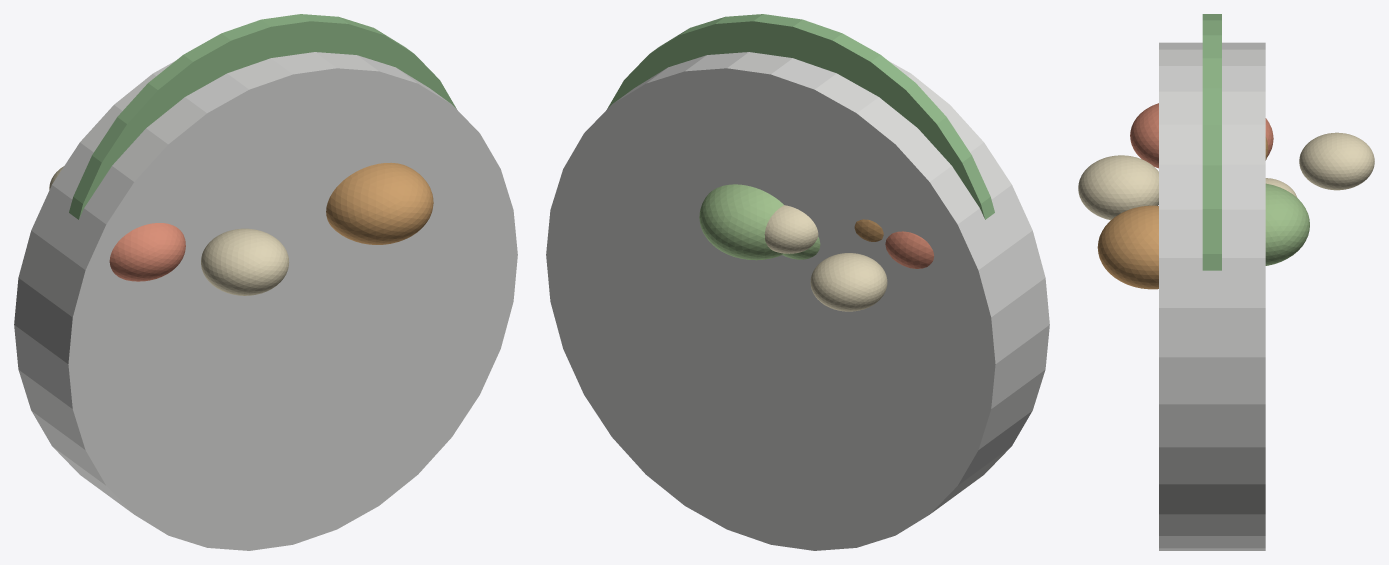
File: salad.glb
The picture shows the model from 3 angles, left to right: view 1: azimuth 30°, elevation 25°; view 2: azimuth 150°, elevation 25°; view 3: azimuth 270°, elevation 25°; orthographic projection.
Visible parts, largest first — view 1: geometry_0, geometry_1, geometry_10, geometry_11, geometry_5; view 2: geometry_0, geometry_1, geometry_8, geometry_3, geometry_7, geometry_9; view 3: geometry_0, geometry_1, geometry_10, geometry_11, geometry_3, geometry_8, geometry_5.
Boxes of the visible parts, x1,y1,x2,y2 form: geometry_0: (14,52,517,550); geometry_1: (69,14,456,219); geometry_10: (326,162,433,244); geometry_11: (201,228,289,295); geometry_5: (109,223,185,281); geometry_0: (546,52,1049,550); geometry_1: (607,14,994,219); geometry_8: (699,184,783,260); geometry_3: (810,253,887,311); geometry_7: (764,205,818,253); geometry_9: (885,231,934,268); geometry_0: (1159,42,1265,550); geometry_1: (1202,14,1221,270); geometry_10: (1097,205,1158,289); geometry_11: (1078,155,1158,220); geometry_3: (1299,132,1374,190); geometry_8: (1265,183,1309,265); geometry_5: (1130,103,1158,168).
Bounding box in the file's own units: 2.1 × 2.24 × 1.22.
